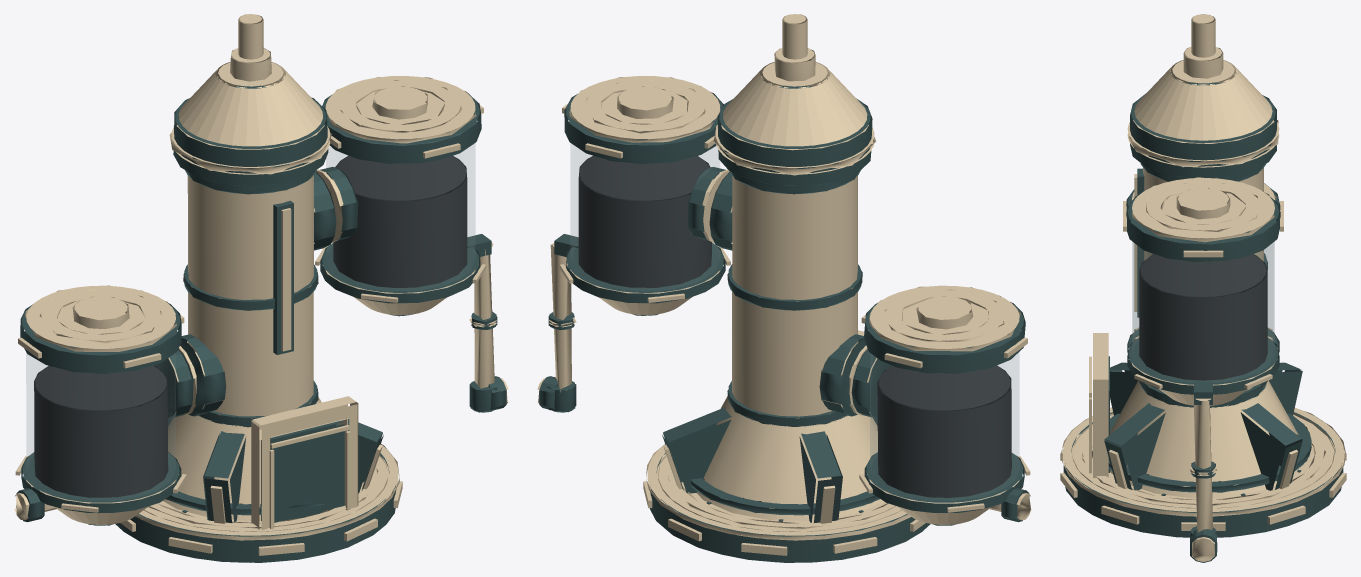
File: Vat_T2_lab2.glb
The picture shows the model from 3 angles, left to right: view 1: azimuth 30°, elevation 25°; view 2: azimuth 150°, elevation 25°; view 3: azimuth 270°, elevation 25°; orthographic projection. The views are drawn at different scales.
Visible parts, largest first — view 1: Vat_T2; view 2: Vat_T2; view 3: Vat_T2.
Part boxes in pixels (bbox=[...]): Vat_T2: bbox=[14, 14, 508, 562]; Vat_T2: bbox=[537, 14, 1031, 562]; Vat_T2: bbox=[1060, 14, 1346, 562].
Bounding box in the file's own units: 6.83 × 6.61 × 3.67.
